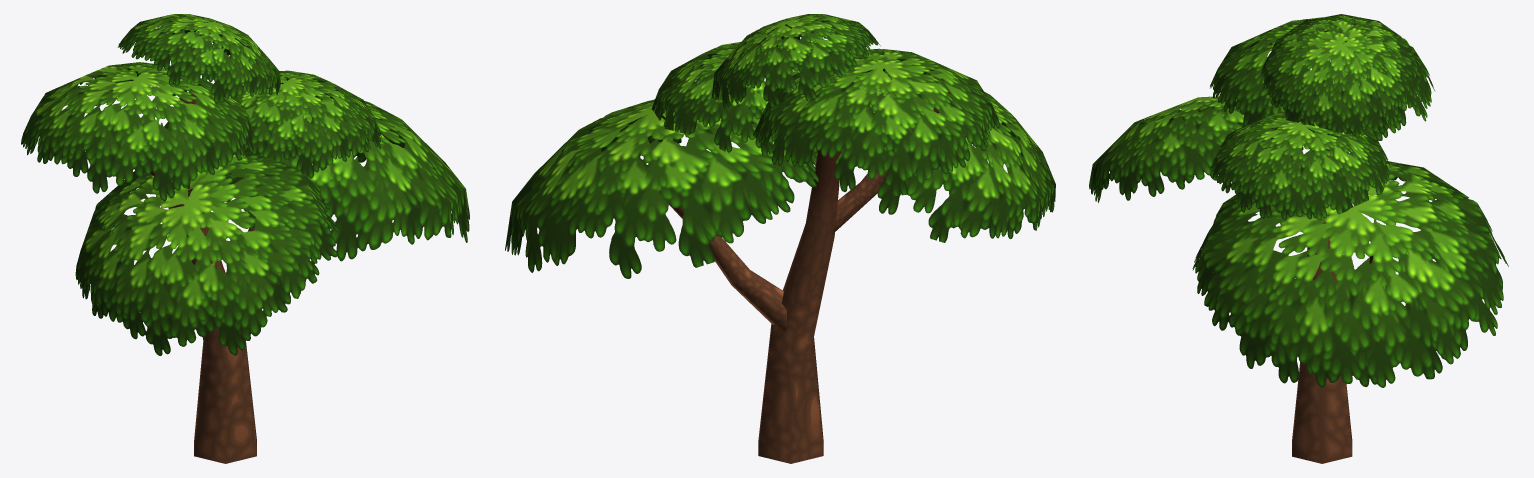
The model's file is Tree_03a.FBX.
3 renders of one model, left to right at view 1: azimuth 30°, elevation 25°; view 2: azimuth 150°, elevation 25°; view 3: azimuth 270°, elevation 25°, orthographic. The views are drawn at different scales.
Visible parts, largest first — view 1: Tree_03a; view 2: Tree_03a; view 3: Tree_03a.
Part boxes in pixels (left/top/right/bottom): Tree_03a: left=21, top=14, right=469, bottom=463; Tree_03a: left=505, top=14, right=1055, bottom=463; Tree_03a: left=1089, top=14, right=1508, bottom=463.
Size of the model in its own units: 139 by 131 by 126.
1 material, 1 textured.
